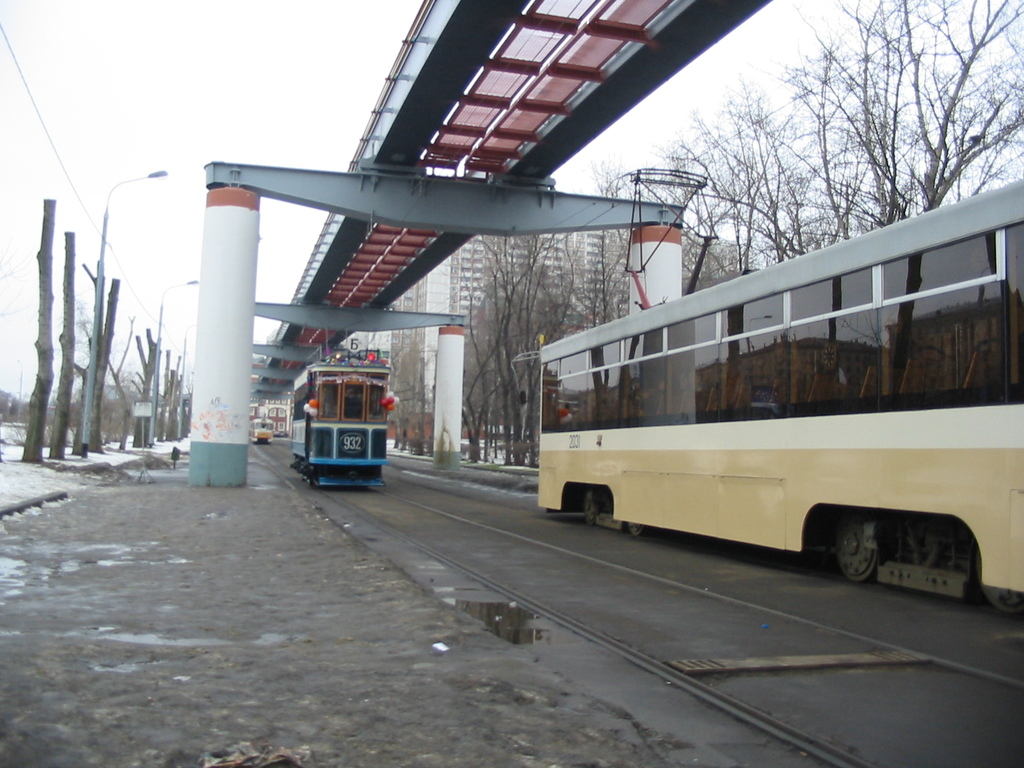train: (288, 350, 392, 489)
